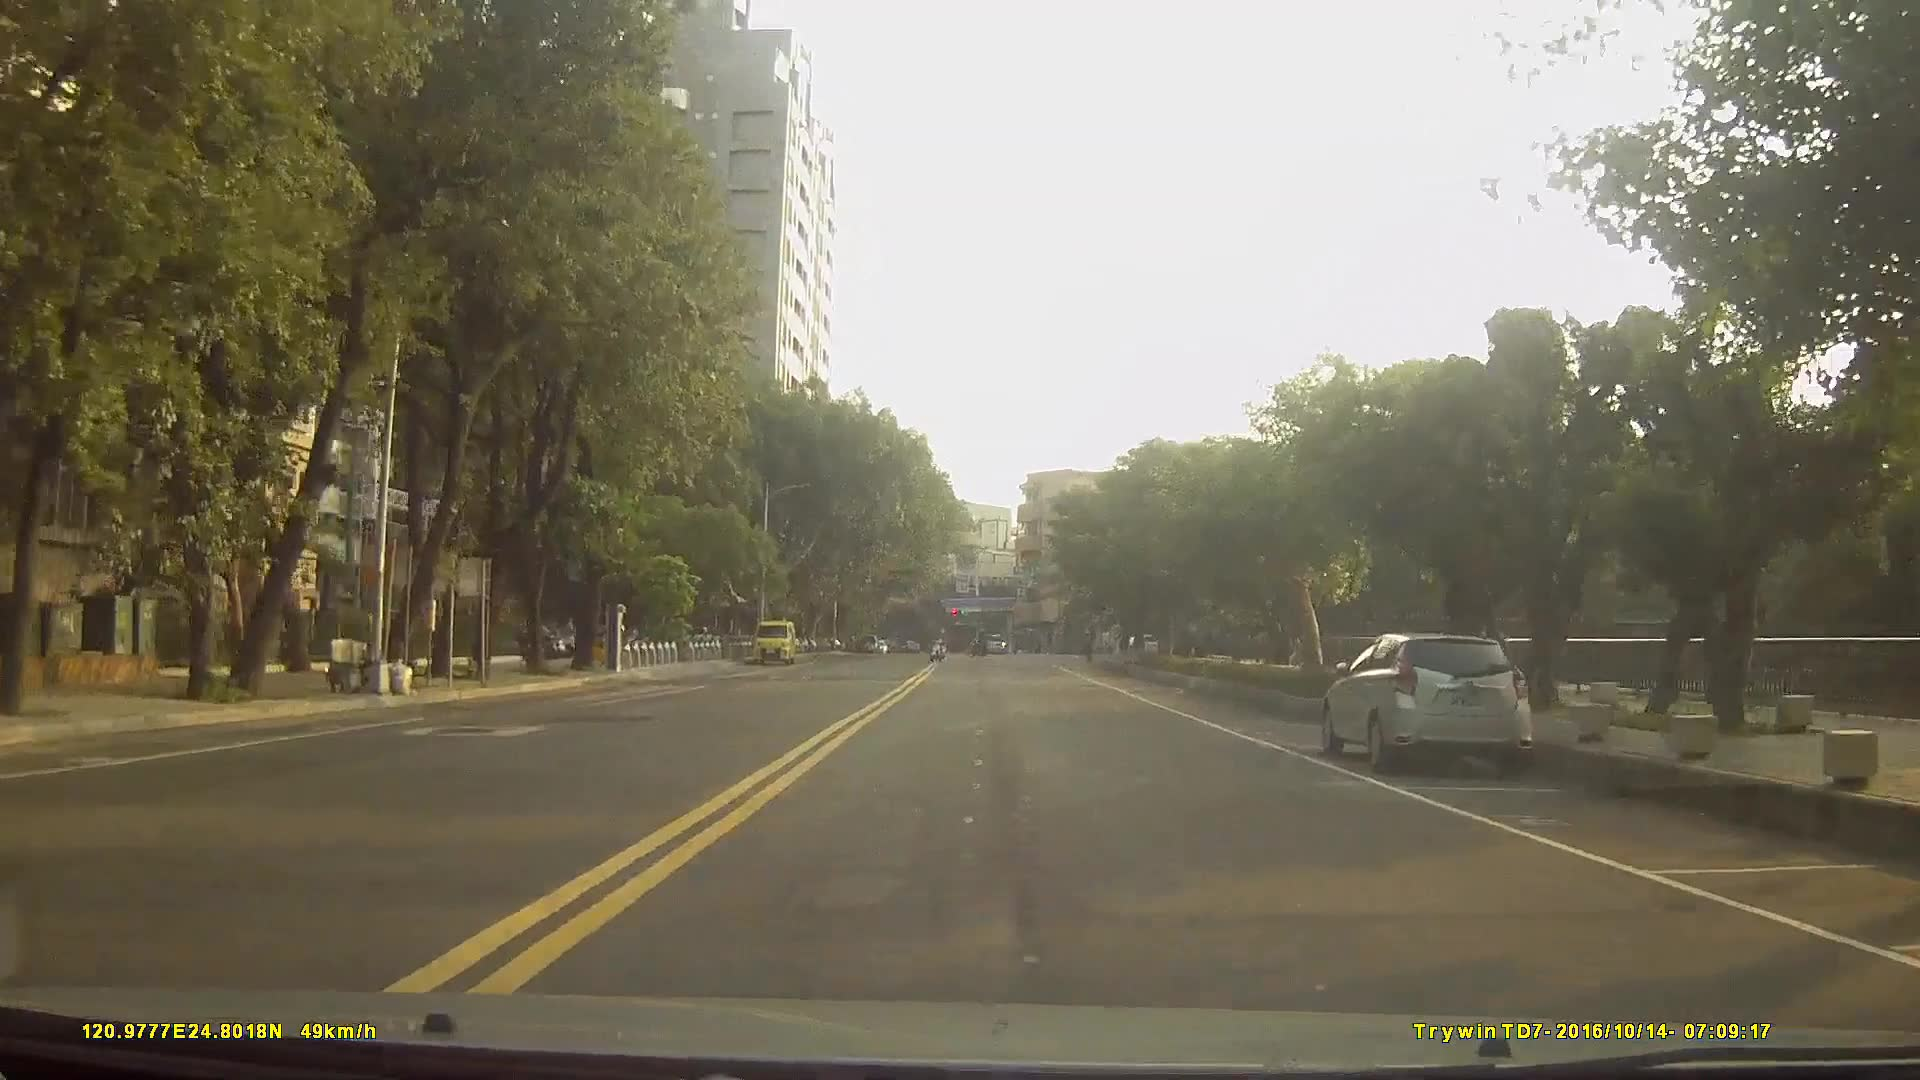rider: (929, 624, 951, 661), (969, 628, 991, 658)
vehicle: (1316, 628, 1536, 781), (981, 630, 1008, 655)
